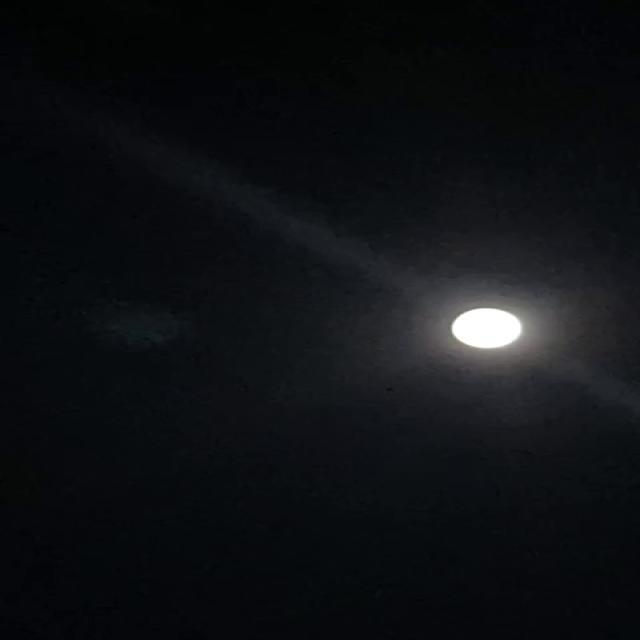moon: (426, 289, 554, 360)
